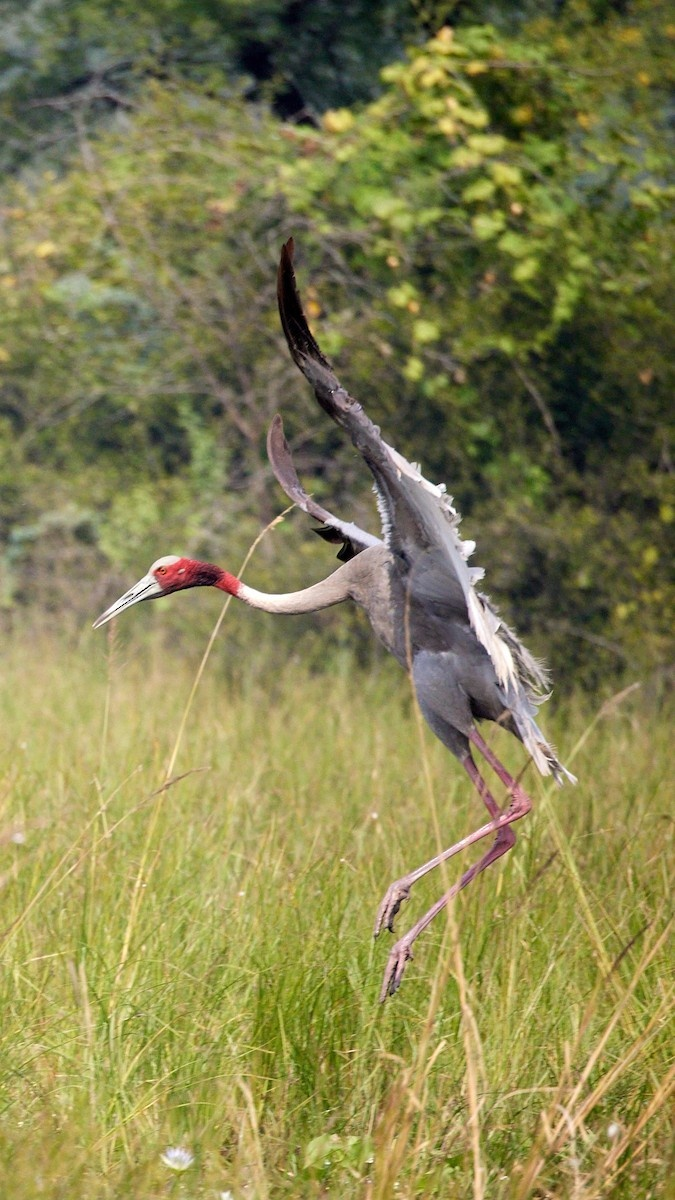crane: (77, 226, 601, 1007)
